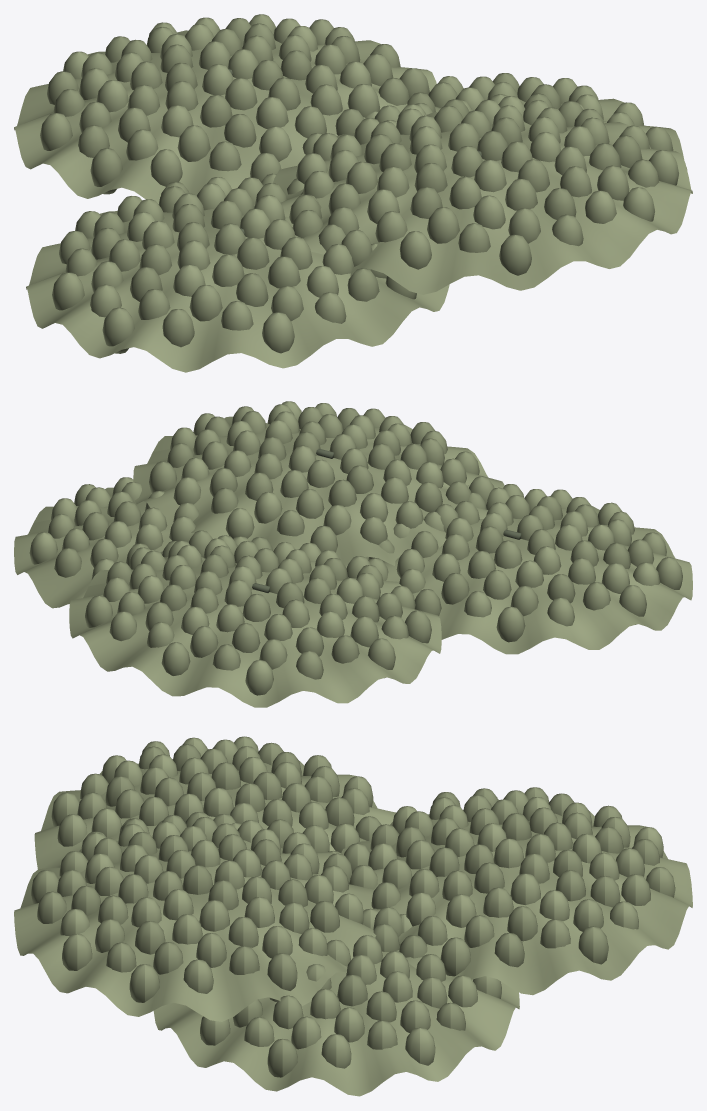
File: ricordea-desktop.glb
3 renders of one model, top to bottom at view 1: azimuth 30°, elevation 25°; view 2: azimuth 150°, elevation 25°; view 3: azimuth 270°, elevation 25°, orthographic. The views are drawn at different scales.
Visible parts, largest first — view 1: vesicle, oral-disc; view 2: vesicle, oral-disc; view 3: vesicle, oral-disc.
Boxes of the visible parts, <box> form: vesicle: <box>40,14,678,353</box>; oral-disc: <box>14,30,692,372</box>; vesicle: <box>29,401,682,695</box>; oral-disc: <box>14,416,692,707</box>; vesicle: <box>31,736,675,1077</box>; oral-disc: <box>14,748,692,1096</box>.
Bounding box in the file's own units: 0.5632 × 0.099 × 0.5079.
